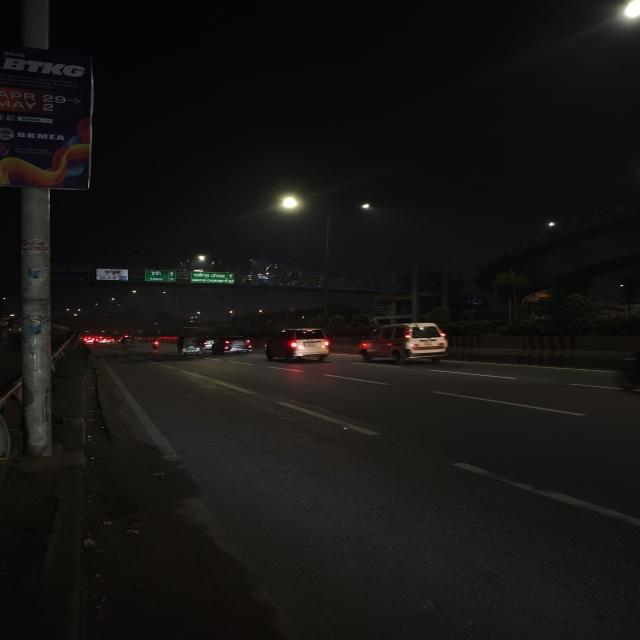car: (354, 320, 456, 366), (264, 326, 336, 364), (216, 334, 255, 357)
cng: (176, 336, 204, 356), (117, 335, 138, 350)
motorcycle: (148, 337, 163, 353)
